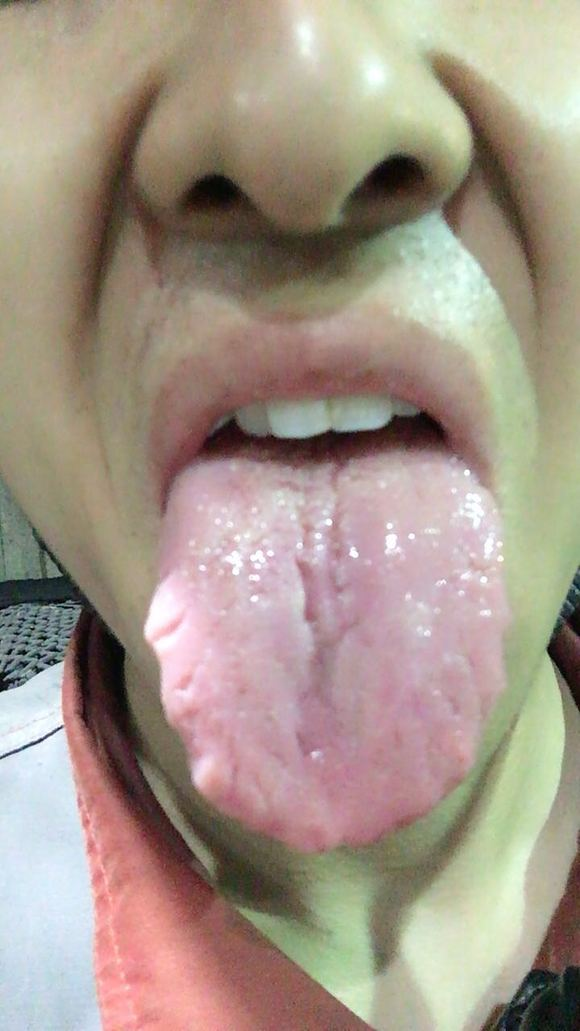baitaishe: (145, 436, 507, 849)
chihenshe: (144, 635, 197, 789)
liewenshe: (277, 453, 353, 624)
pangdashe: (145, 435, 507, 848)
